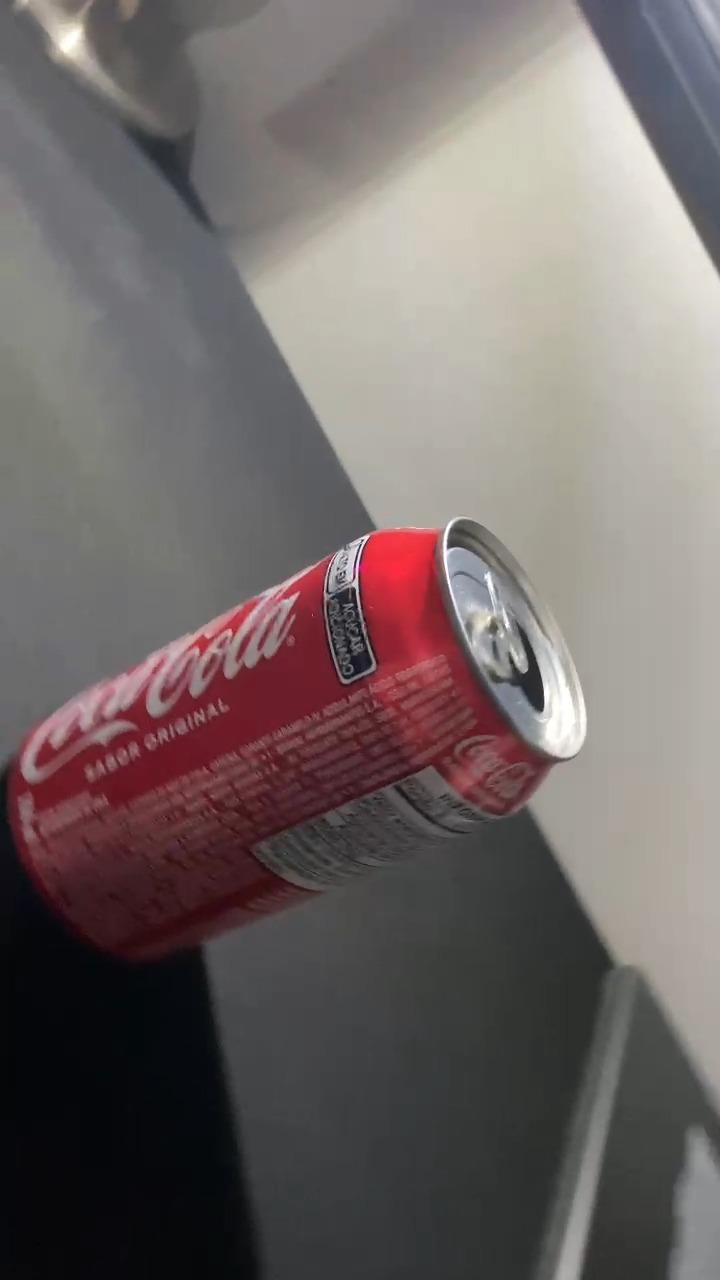coke: (2, 522, 585, 962)
